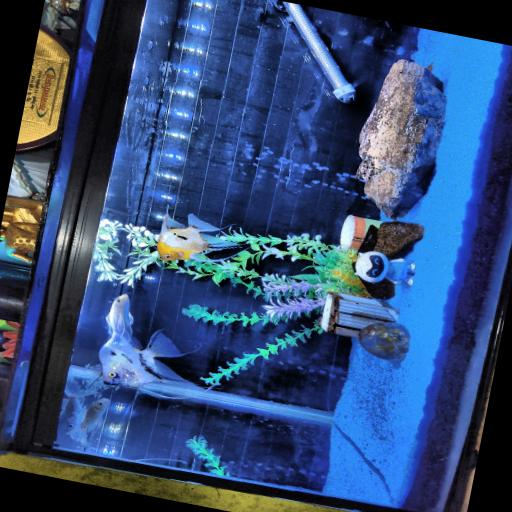Fish: (99, 293, 203, 397), (157, 209, 240, 260), (68, 397, 110, 444), (60, 396, 82, 427)
